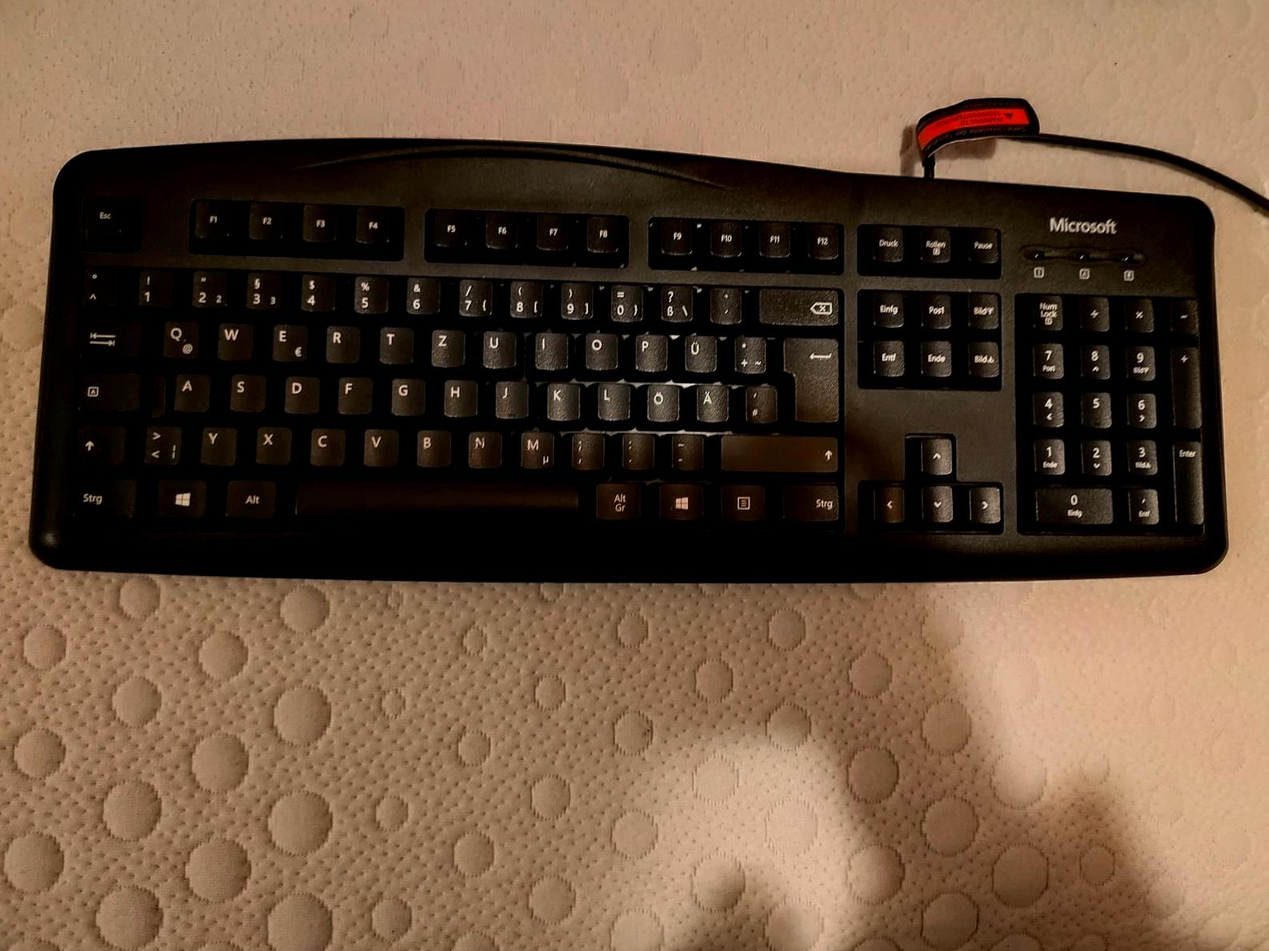0: (603, 279, 642, 322)
1: (132, 264, 172, 307)
2: (186, 265, 227, 308)
3: (239, 266, 280, 309)
4: (295, 268, 334, 310)
5: (347, 271, 386, 313)
6: (401, 271, 439, 314)
7: (453, 274, 491, 316)
8: (504, 275, 542, 318)
9: (555, 278, 593, 319)
a: (170, 368, 208, 411)
accent: (706, 282, 742, 322)
ae: (691, 378, 727, 420)
alt-left: (220, 475, 276, 518)
altgr-right: (591, 478, 642, 519)
b: (411, 424, 449, 465)
c: (304, 422, 344, 464)
caret: (77, 261, 118, 306)
comma: (565, 428, 603, 469)
d: (279, 371, 318, 412)
del: (754, 282, 840, 326)
e: (267, 319, 306, 361)
enter: (779, 333, 839, 423)
f: (334, 372, 370, 413)
g: (386, 373, 424, 413)
h: (438, 375, 476, 415)
hash: (739, 381, 776, 422)
i: (529, 327, 567, 369)
j: (490, 377, 527, 417)
k: (542, 377, 577, 419)
keyboard: (25, 147, 1235, 577)
l: (591, 377, 628, 419)
less: (139, 420, 180, 464)
m: (514, 426, 553, 468)
minus: (665, 428, 702, 468)
n: (462, 425, 500, 467)
o: (579, 328, 616, 368)
oe: (640, 378, 677, 420)
p: (630, 329, 667, 369)
plus: (729, 332, 765, 373)
point: (615, 428, 653, 468)
q: (157, 315, 198, 357)
r: (321, 320, 358, 361)
s: (224, 369, 263, 410)
shift-left: (71, 420, 125, 464)
shift-lock: (73, 367, 140, 411)
shift-right: (716, 430, 837, 471)
space: (290, 473, 579, 524)
ss: (654, 280, 692, 322)
strg-left: (65, 472, 135, 520)
strg-right: (778, 479, 841, 520)
t: (374, 321, 411, 361)
tab: (76, 314, 142, 358)
u: (477, 326, 515, 367)
ue: (680, 330, 715, 371)
v: (358, 423, 397, 464)
w: (211, 317, 251, 359)
x: (250, 420, 290, 462)
y: (195, 421, 235, 464)
z: (426, 325, 463, 365)
